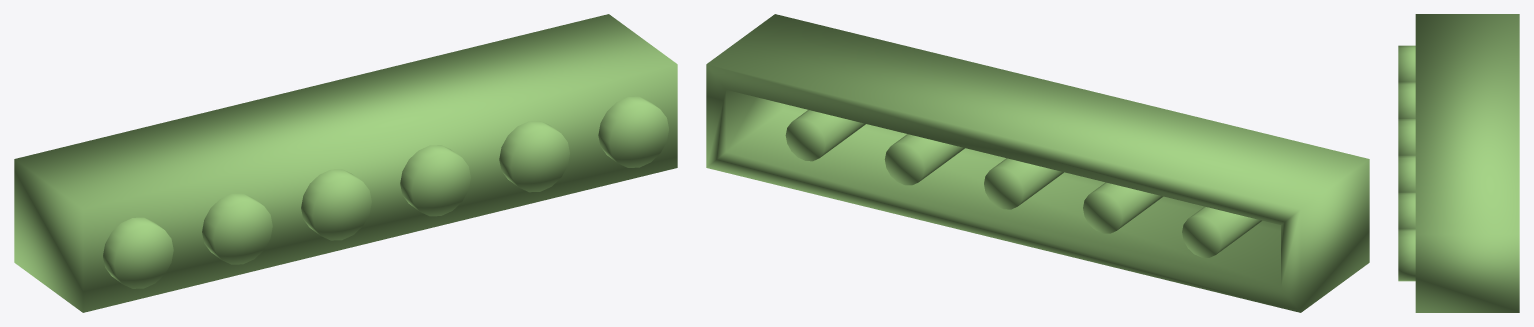
The picture shows the model from 3 angles, left to right: view 1: azimuth 30°, elevation 25°; view 2: azimuth 150°, elevation 25°; view 3: azimuth 270°, elevation 25°; orthographic projection. The views are drawn at different scales.
Bounding box in the file's own units: 48 × 8 × 11.2.
